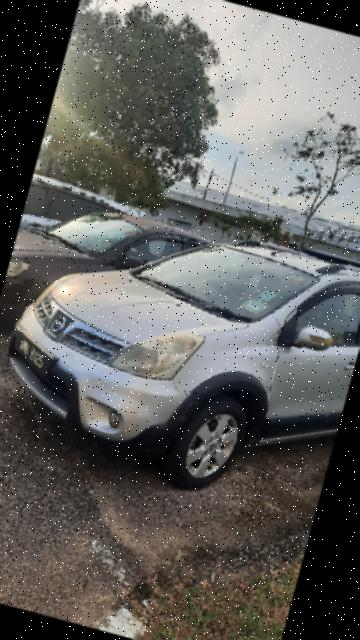License_Plate: (5, 323, 71, 385)
car: (1, 176, 360, 529)
